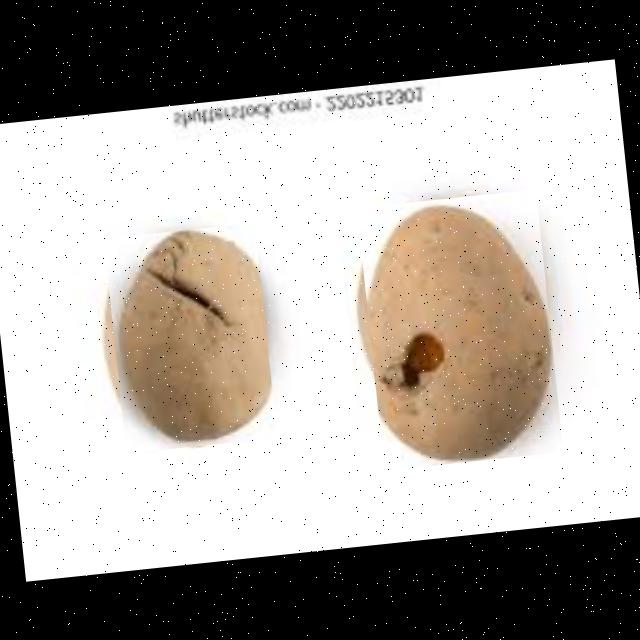Damaged potato: (356, 189, 564, 470), (103, 222, 277, 453)
